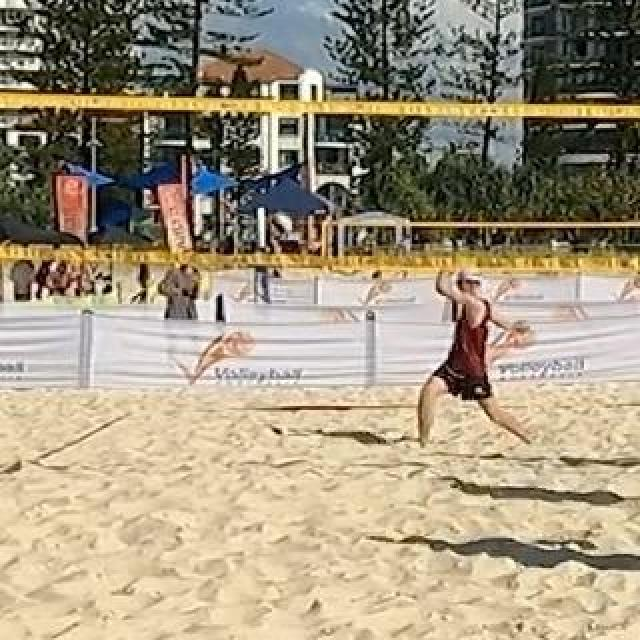volleyball: (268, 213, 292, 235)
